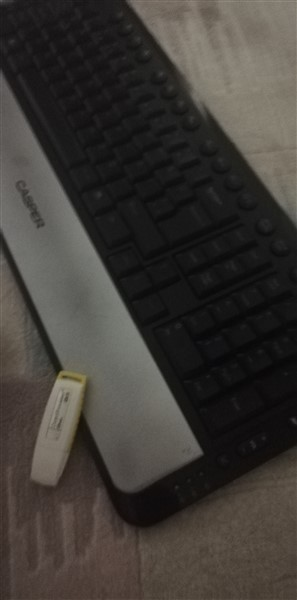flash disk: (23, 364, 103, 494)
klavye: (3, 3, 296, 526)
